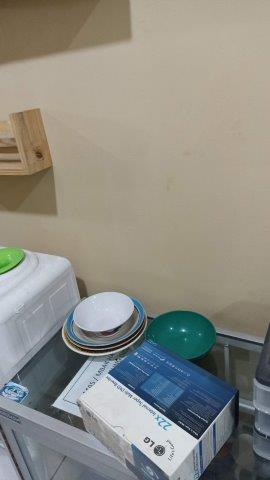kardus: (78, 340, 239, 480)
